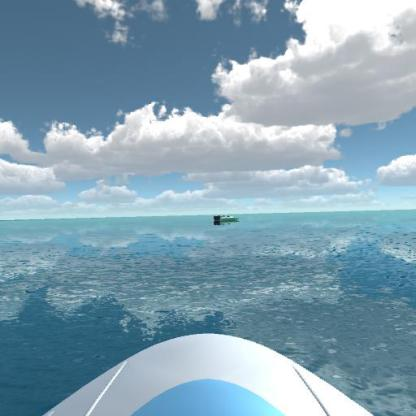usv0: (210, 206, 243, 226)
